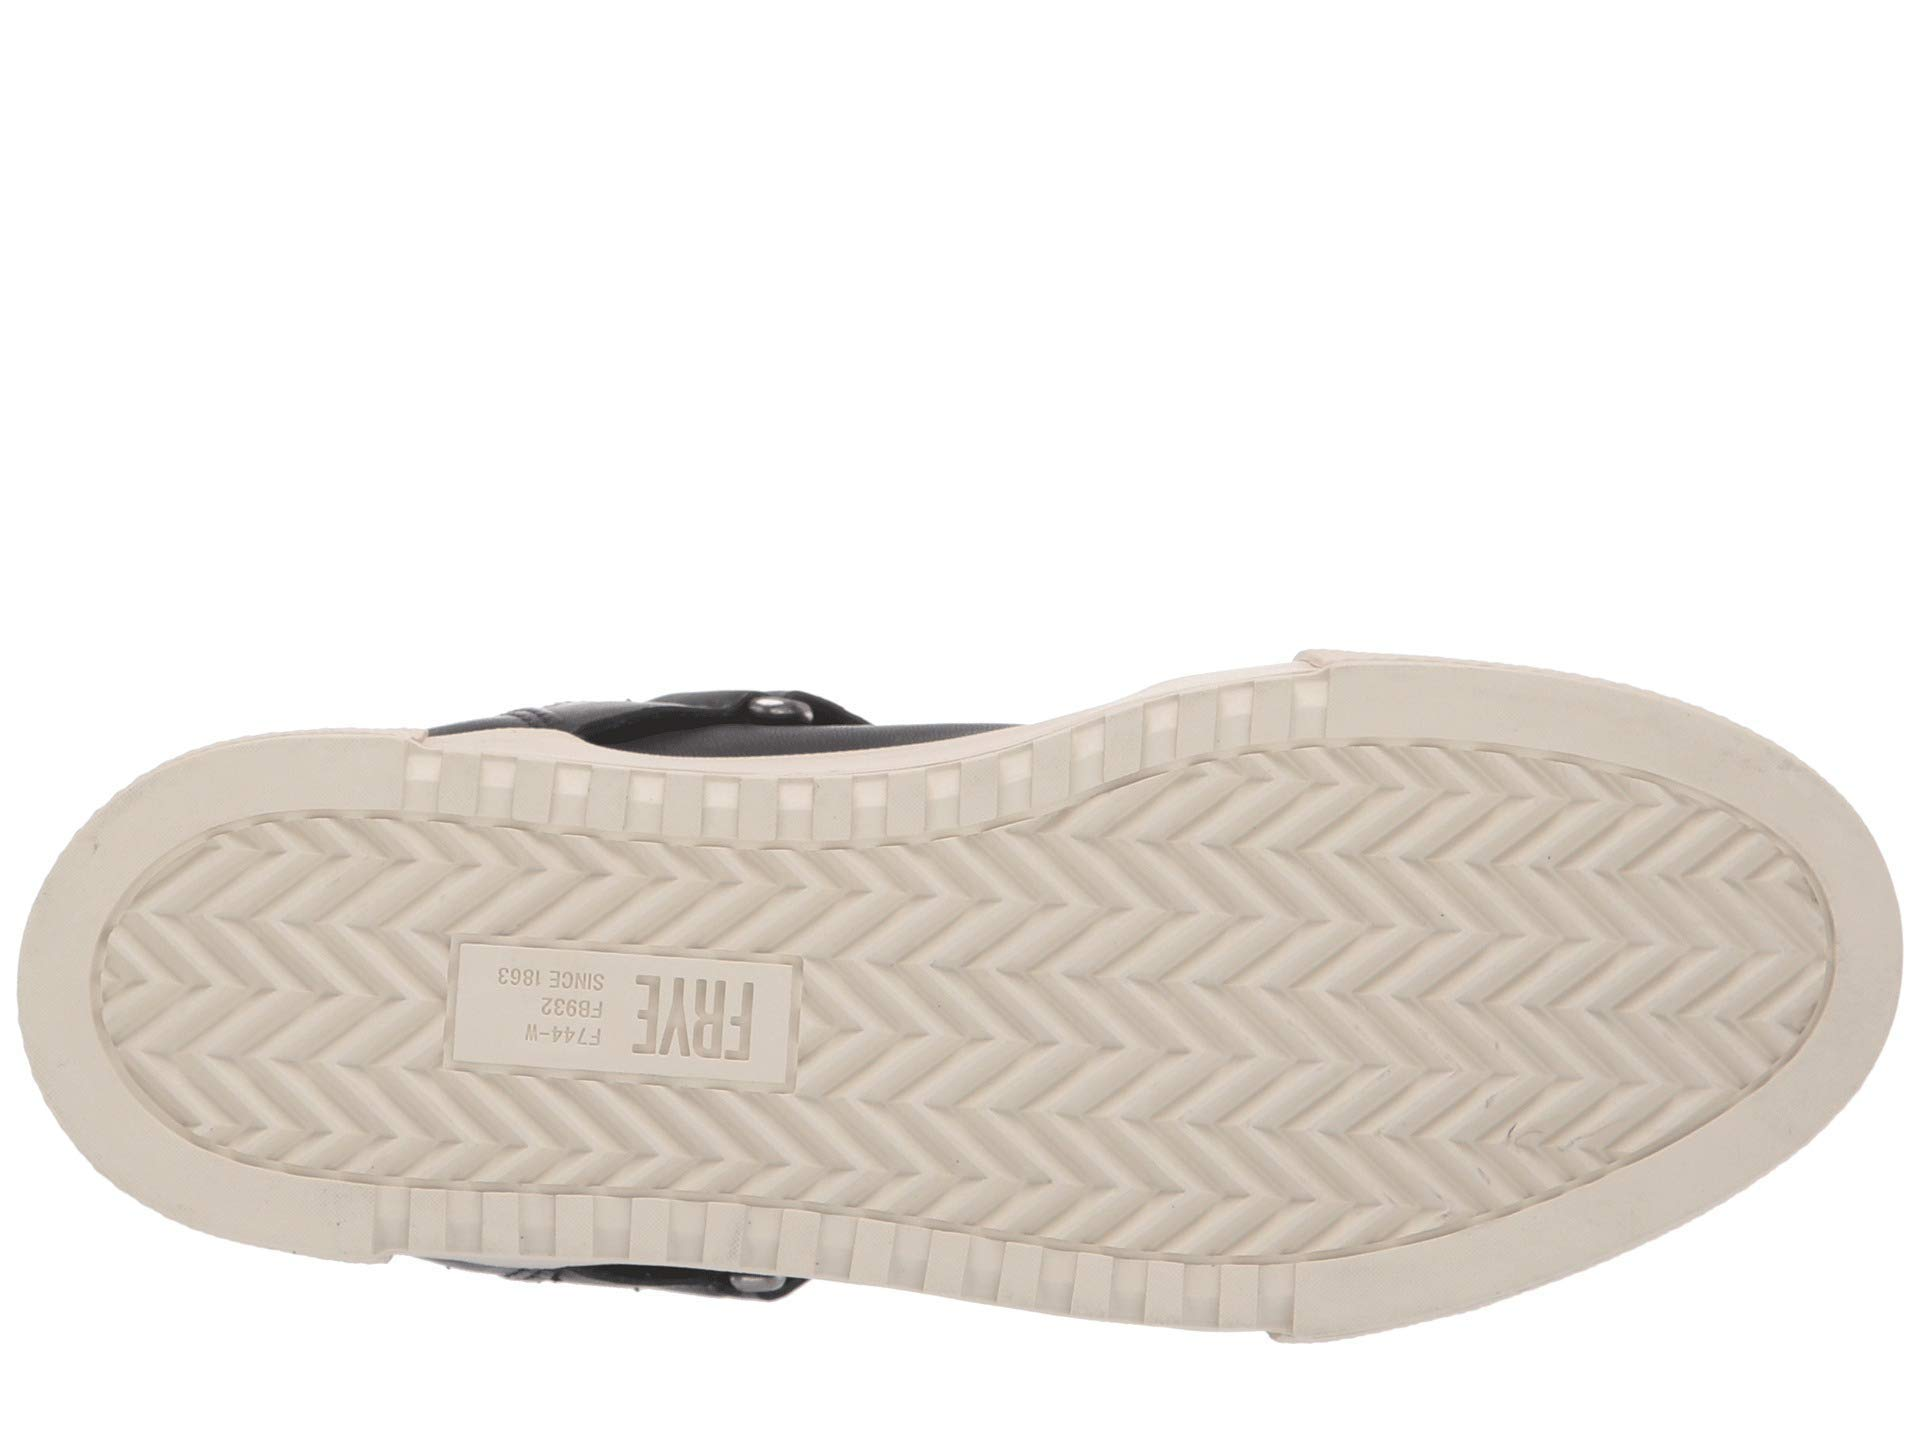chevron: (1095, 793, 1699, 1110), (65, 865, 364, 1162)
quad: (444, 939, 804, 1088), (414, 740, 766, 832), (525, 1212, 865, 1289)
text: (444, 939, 804, 1088)
triangle: (65, 865, 364, 1162)
